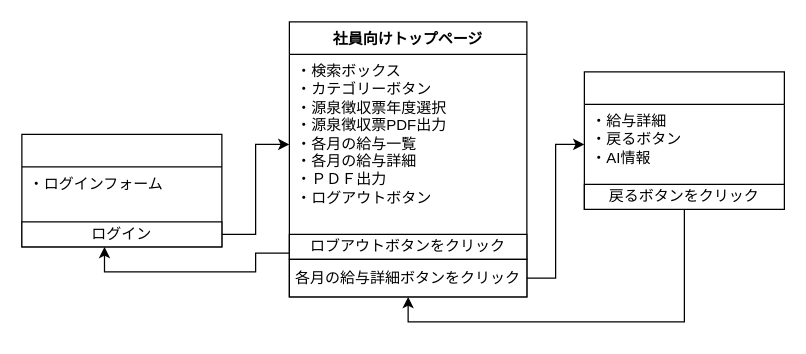
Image size: 806x354. Some labels were removed from this diagram. The box of each missing label's shape, as (x1, y1, x2, y2) in pixels:
社員ログインページ: (21, 133, 222, 247)
給与詳細ページ: (583, 71, 784, 209)
